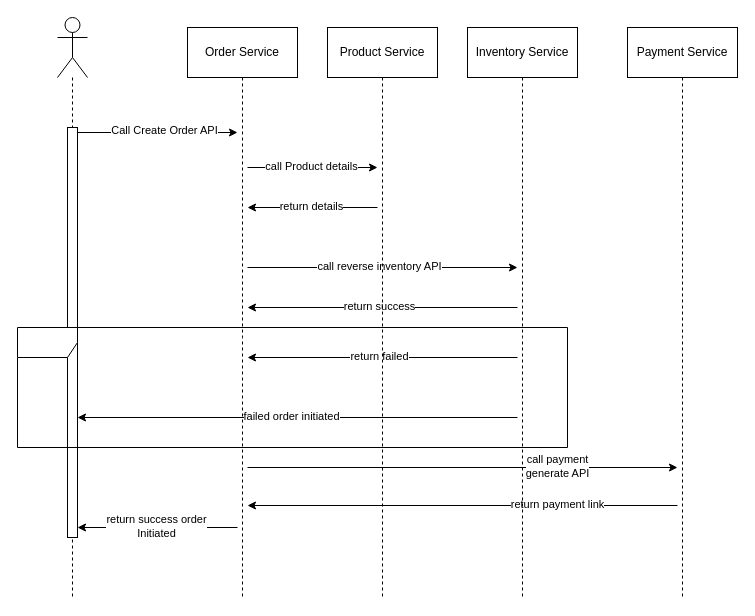
Image size: 755x616. Some labels were removed from this diagram. The shapes that lost their labels are listed below. From the top down, each one's centre as x and y in pixels, then its label:
At (72,47): "User".
At (292,387): "if no inventory".
